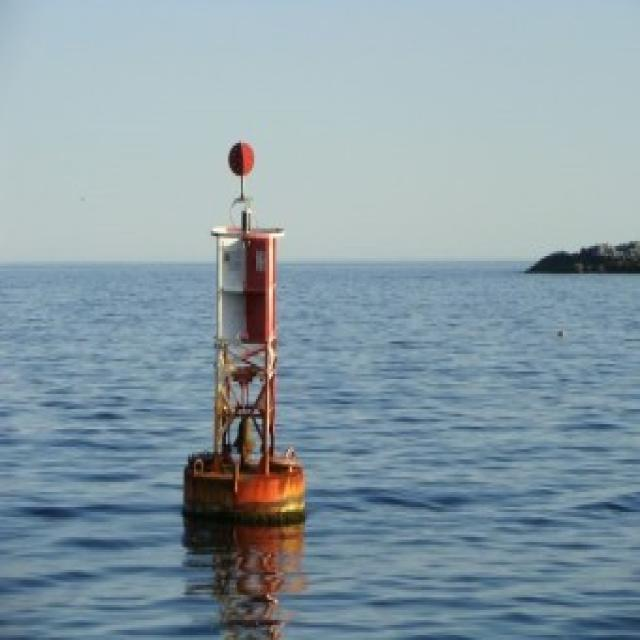buoy: (169, 105, 317, 548)
